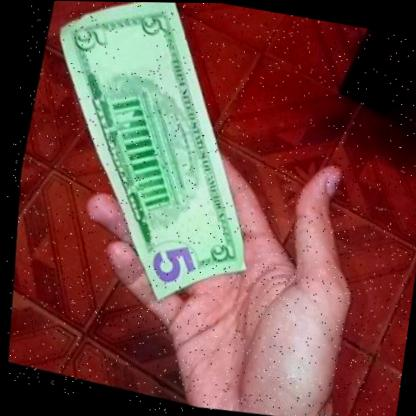five-back: (0, 0, 319, 341)
